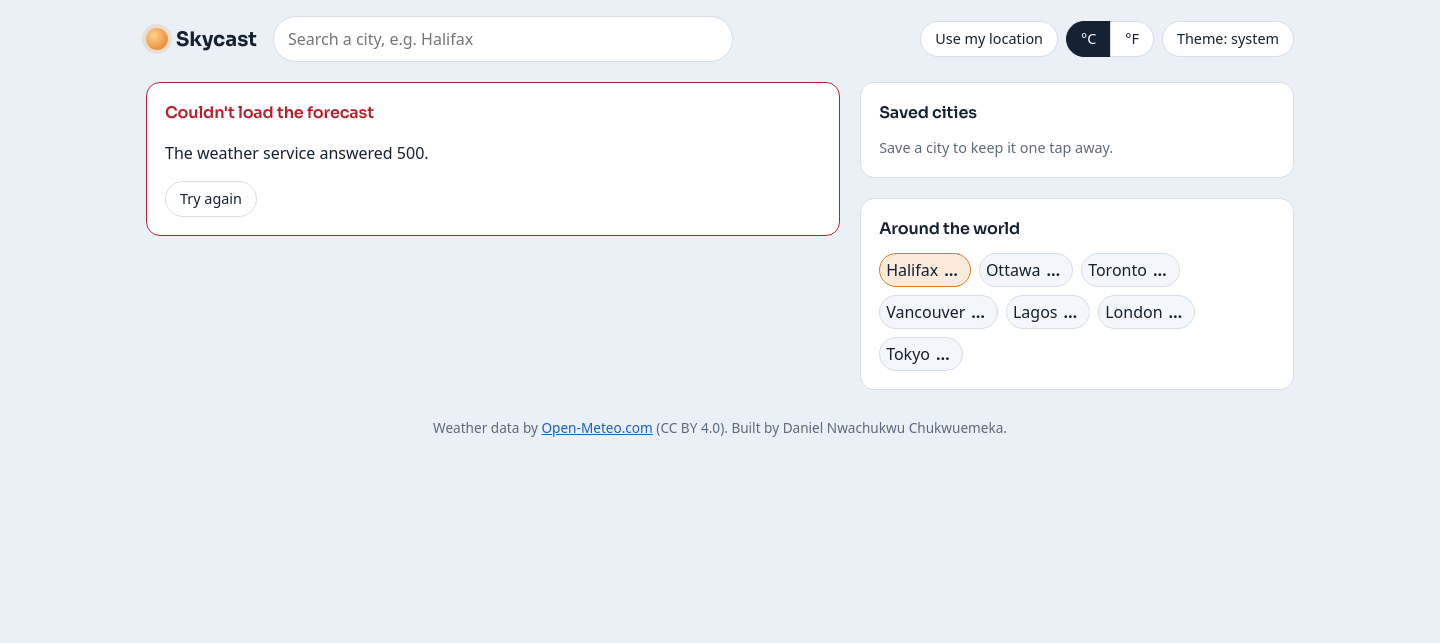
Scenario: App › shows a friendly error with a retry button
The width and height of the screenshot is (1440, 643).
Check: the heading "Couldn't load the forecast" is shown, box [165,102,374,123]
Click the button "Try again".
click(211, 199)  # box [165,181,257,217]
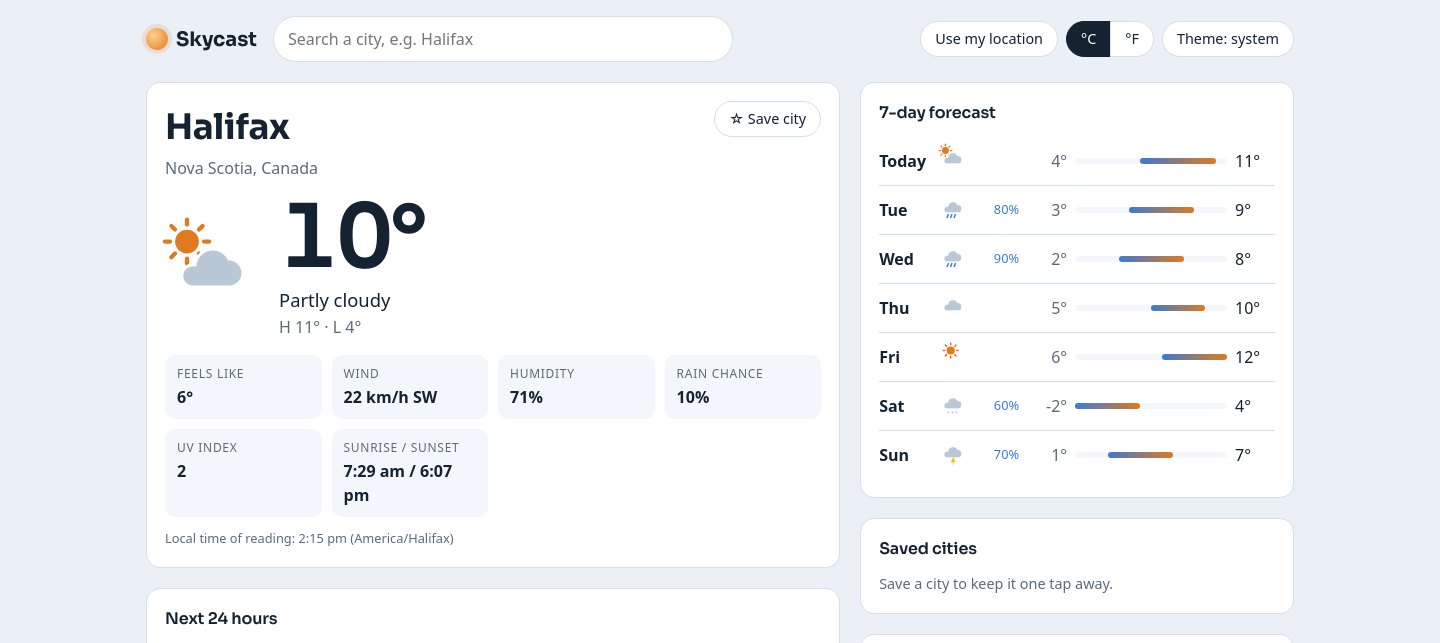
Check: the heading "Halifax" is shown, box [165,105,290,149]
